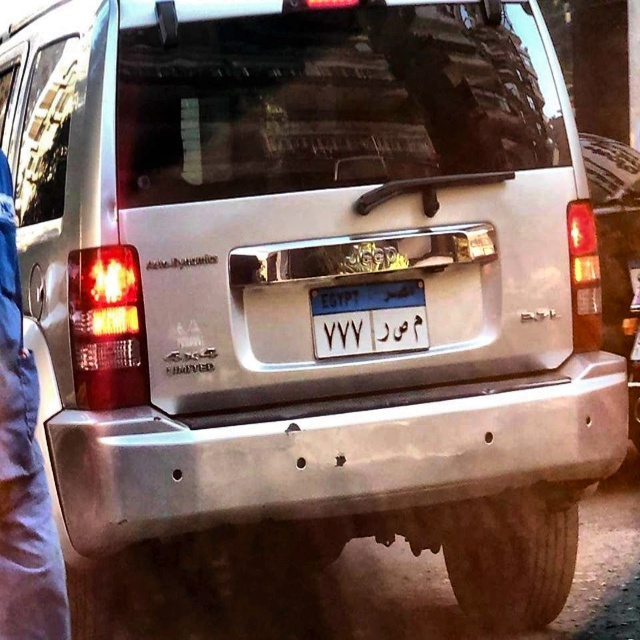License Plate: (305, 275, 433, 363)
